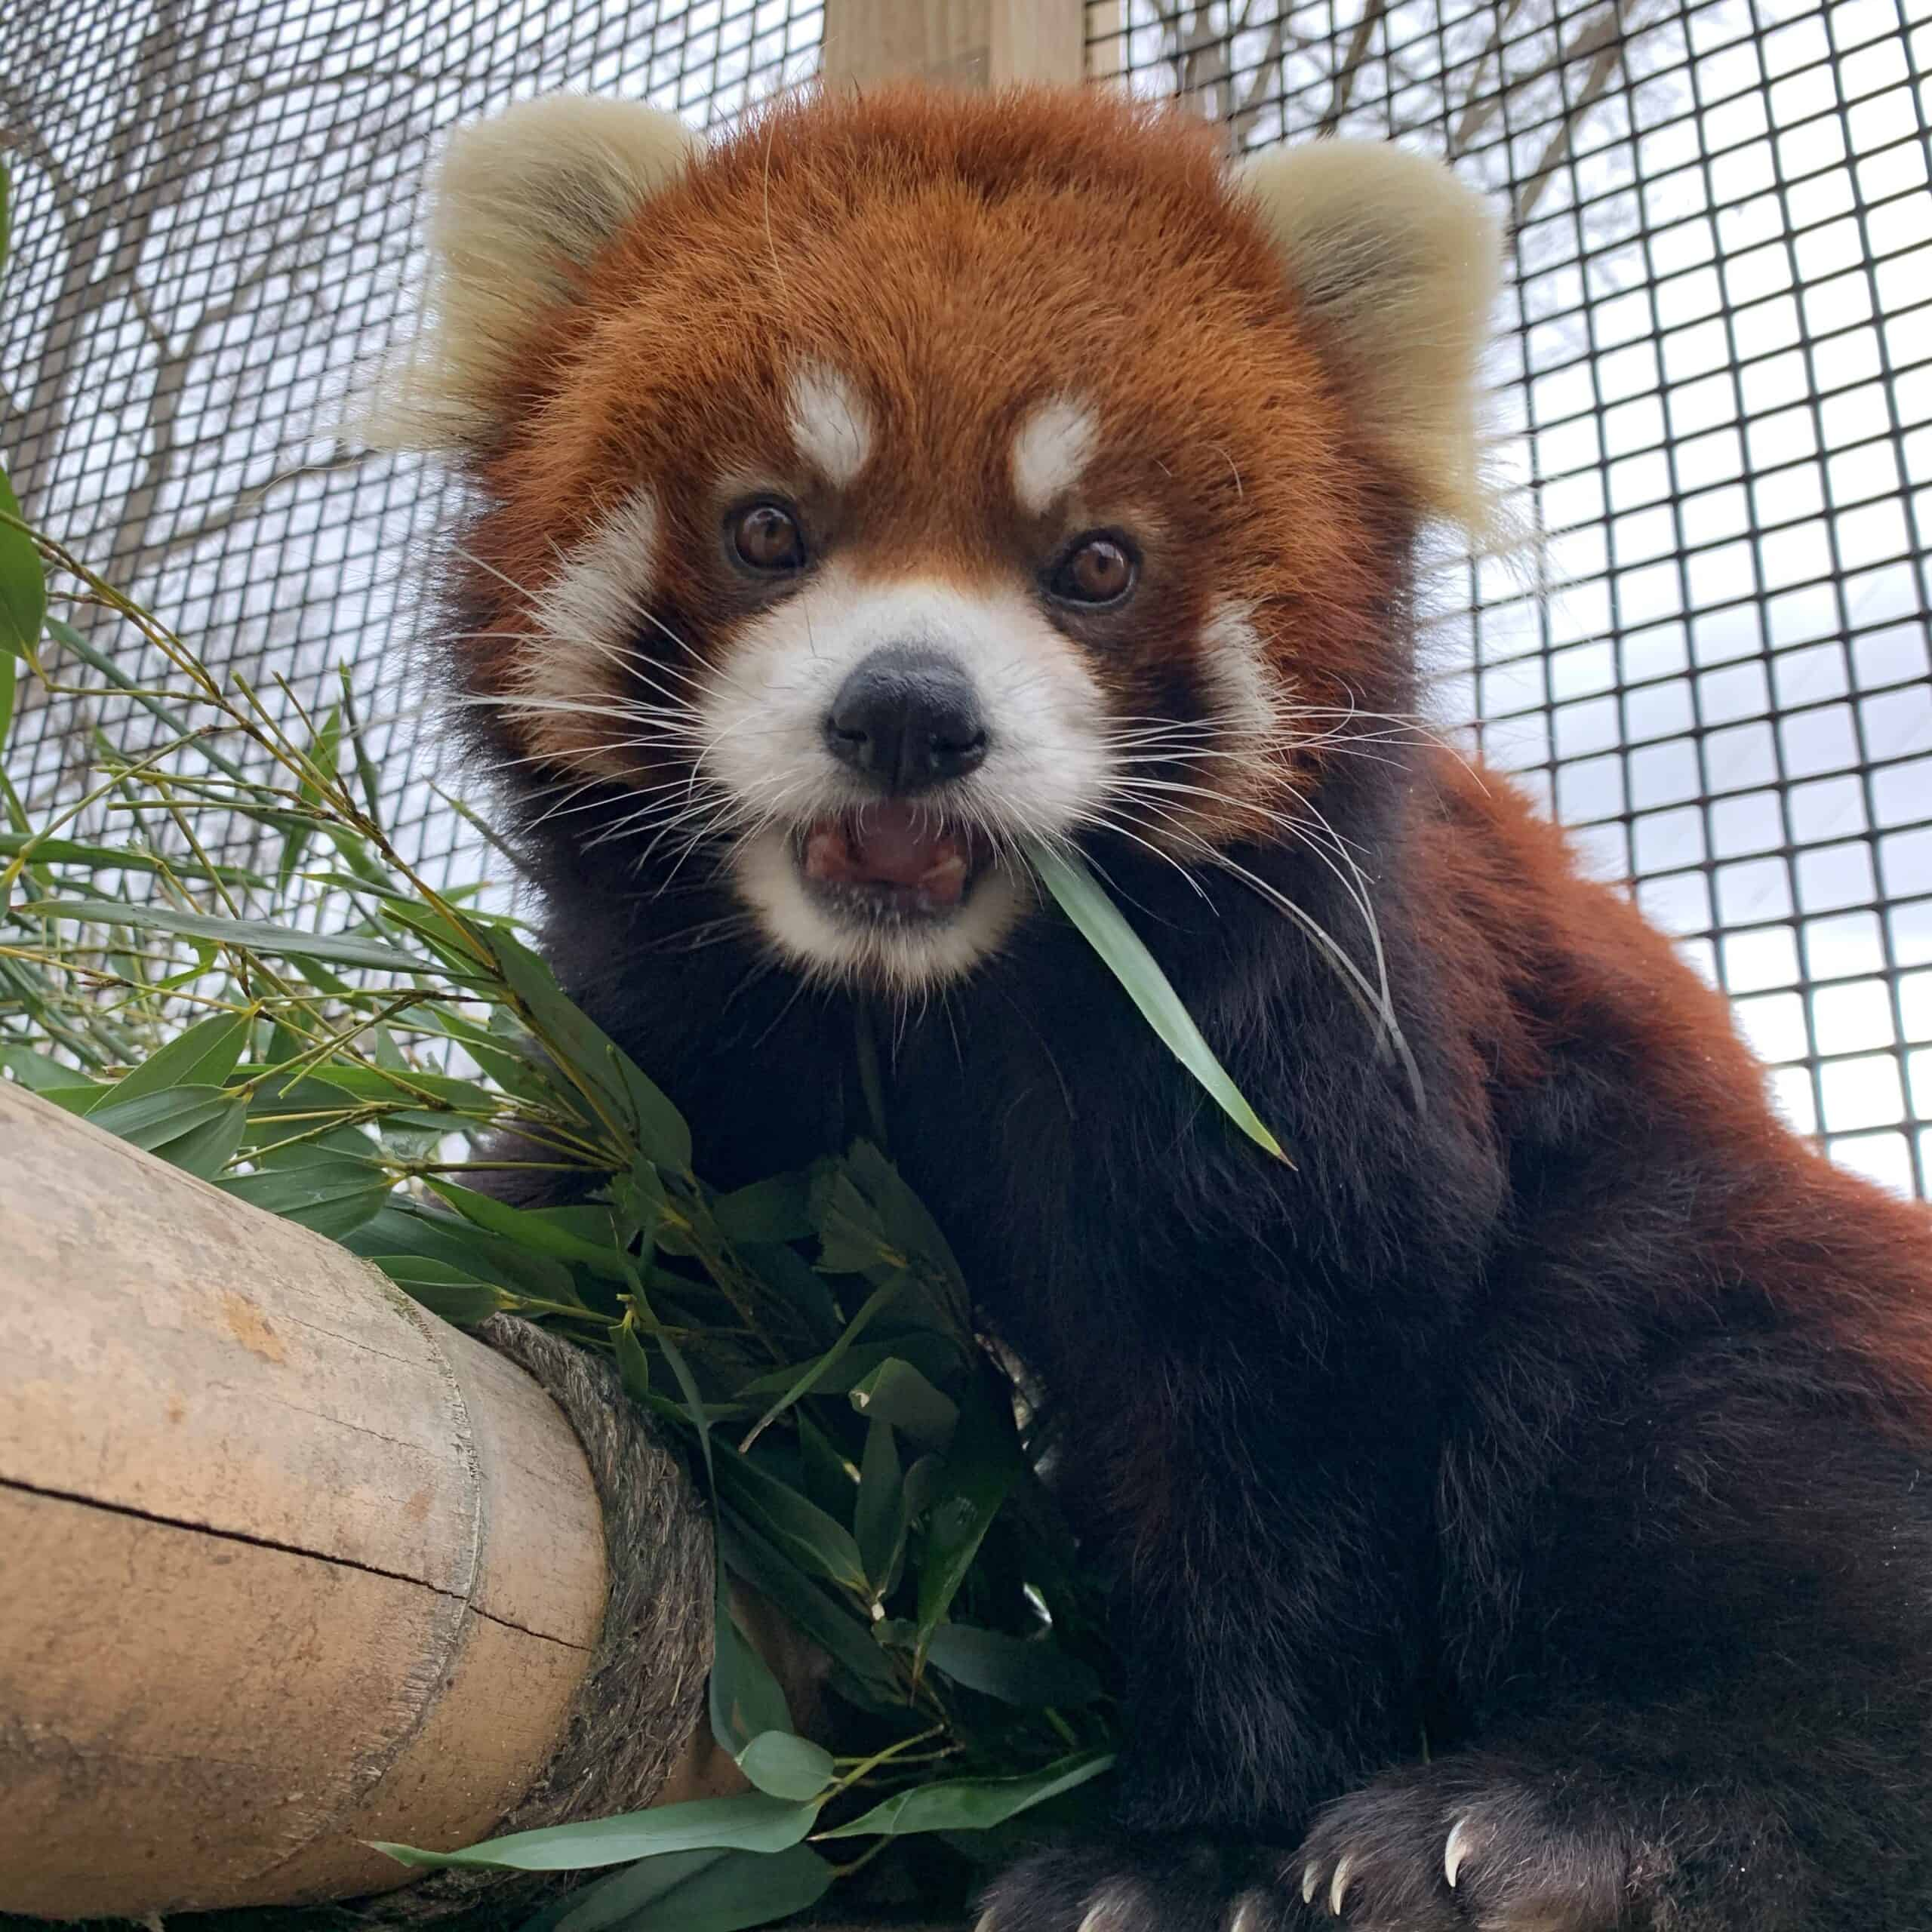Red panda: (380, 81, 1516, 1000)
